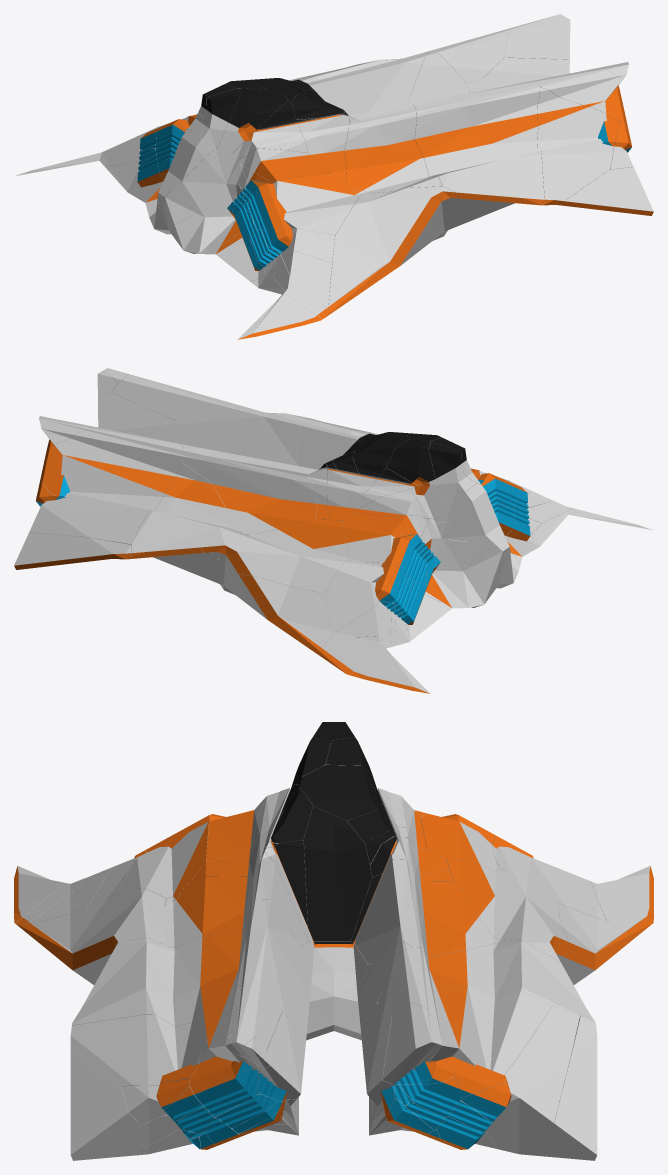
The model's file is Drone_4_Destruction.fbx.
3 views of the same model, one above another, from view 1: azimuth 30°, elevation 25°; view 2: azimuth 150°, elevation 25°; view 3: azimuth 270°, elevation 25° (orthographic). The views are drawn at different scales.
Visible parts, largest first — view 1: Drone_cell.102, Drone_cell.009, Drone_cell.029, Drone_cell.098, Drone_cell.051, Drone_cell.010, Drone_cell.096, Drone_cell.084, Drone_cell.052, Drone_cell.068, Drone_cell.097, Drone_cell.013 (+25 smaller); view 2: Drone_cell.013, Drone_cell.010, Drone_cell.066, Drone_cell.080, Drone_cell.102, Drone_cell.081, Drone_cell.055, Drone_cell.024, Drone_cell.074, Drone_cell.094, Drone_cell.014, Drone_cell.004 (+28 smaller); view 3: Drone_cell.102, Drone_cell.013, Drone_cell.010, Drone_cell.029, Drone_cell.074, Drone_cell.098, Drone_cell.042, Drone_cell.080, Drone_cell.066, Drone_cell.009, Drone_cell.084, Drone_cell.094 (+42 smaller).
Boxes of the visible parts, <box> form: Drone_cell.102: <box>413,80,544,231</box>; Drone_cell.009: <box>328,186,458,315</box>; Drone_cell.029: <box>537,87,619,205</box>; Drone_cell.098: <box>344,104,442,193</box>; Drone_cell.051: <box>258,173,359,235</box>; Drone_cell.010: <box>308,52,428,115</box>; Drone_cell.096: <box>160,150,242,224</box>; Drone_cell.084: <box>560,167,653,215</box>; Drone_cell.052: <box>534,67,627,124</box>; Drone_cell.068: <box>167,195,240,254</box>; Drone_cell.097: <box>504,14,570,59</box>; Drone_cell.013: <box>386,27,513,82</box>; Drone_cell.013: <box>41,428,183,527</box>; Drone_cell.010: <box>181,446,317,534</box>; Drone_cell.066: <box>200,519,348,593</box>; Drone_cell.080: <box>131,463,244,594</box>; Drone_cell.102: <box>177,392,370,465</box>; Drone_cell.081: <box>232,574,331,653</box>; Drone_cell.055: <box>316,636,430,693</box>; Drone_cell.024: <box>324,560,397,633</box>; Drone_cell.074: <box>29,493,138,545</box>; Drone_cell.094: <box>14,532,131,569</box>; Drone_cell.014: <box>443,484,509,563</box>; Drone_cell.004: <box>424,563,499,608</box>; Drone_cell.102: <box>72,899,311,1038</box>; Drone_cell.013: <box>377,947,551,1098</box>; Drone_cell.010: <box>351,859,522,963</box>; Drone_cell.029: <box>70,986,241,1086</box>; Drone_cell.074: <box>485,1006,579,1155</box>; Drone_cell.098: <box>127,852,307,947</box>; Drone_cell.042: <box>303,806,372,941</box>; Drone_cell.080: <box>366,941,592,1018</box>; Drone_cell.066: <box>447,859,569,963</box>; Drone_cell.009: <box>19,888,166,984</box>; Drone_cell.084: <box>70,1047,142,1160</box>; Drone_cell.094: <box>537,1016,597,1160</box>.
Bounding box in the file's own units: 6.18 × 1.97 × 5.1.
